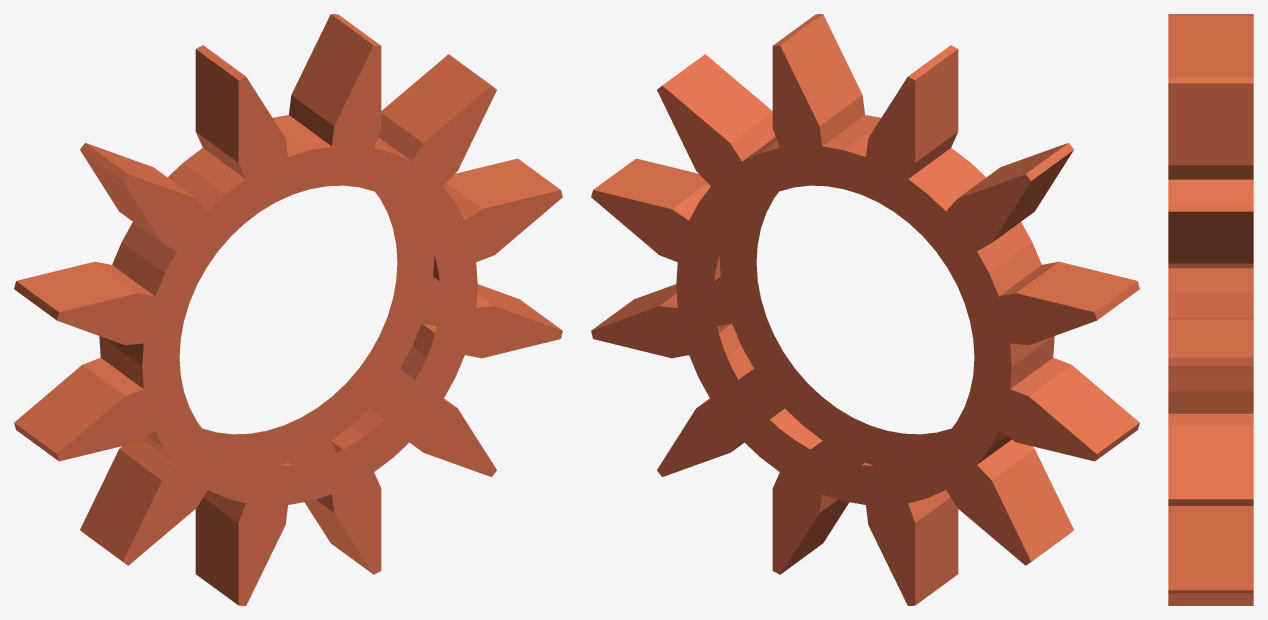
The model's file is gearlowpoly.glb.
3 renders of one model, left to right at view 1: azimuth 30°, elevation 25°; view 2: azimuth 150°, elevation 25°; view 3: azimuth 270°, elevation 25°, orthographic.
Visible parts, largest first — view 1: Gear; view 2: Gear; view 3: Gear.
Boxes of the visible parts, <box> form: Gear: <box>14,14,562,605</box>; Gear: <box>591,14,1139,605</box>; Gear: <box>1168,14,1253,605</box>.
Bounding box in the file's own units: 1.5 × 1.5 × 0.2213.
